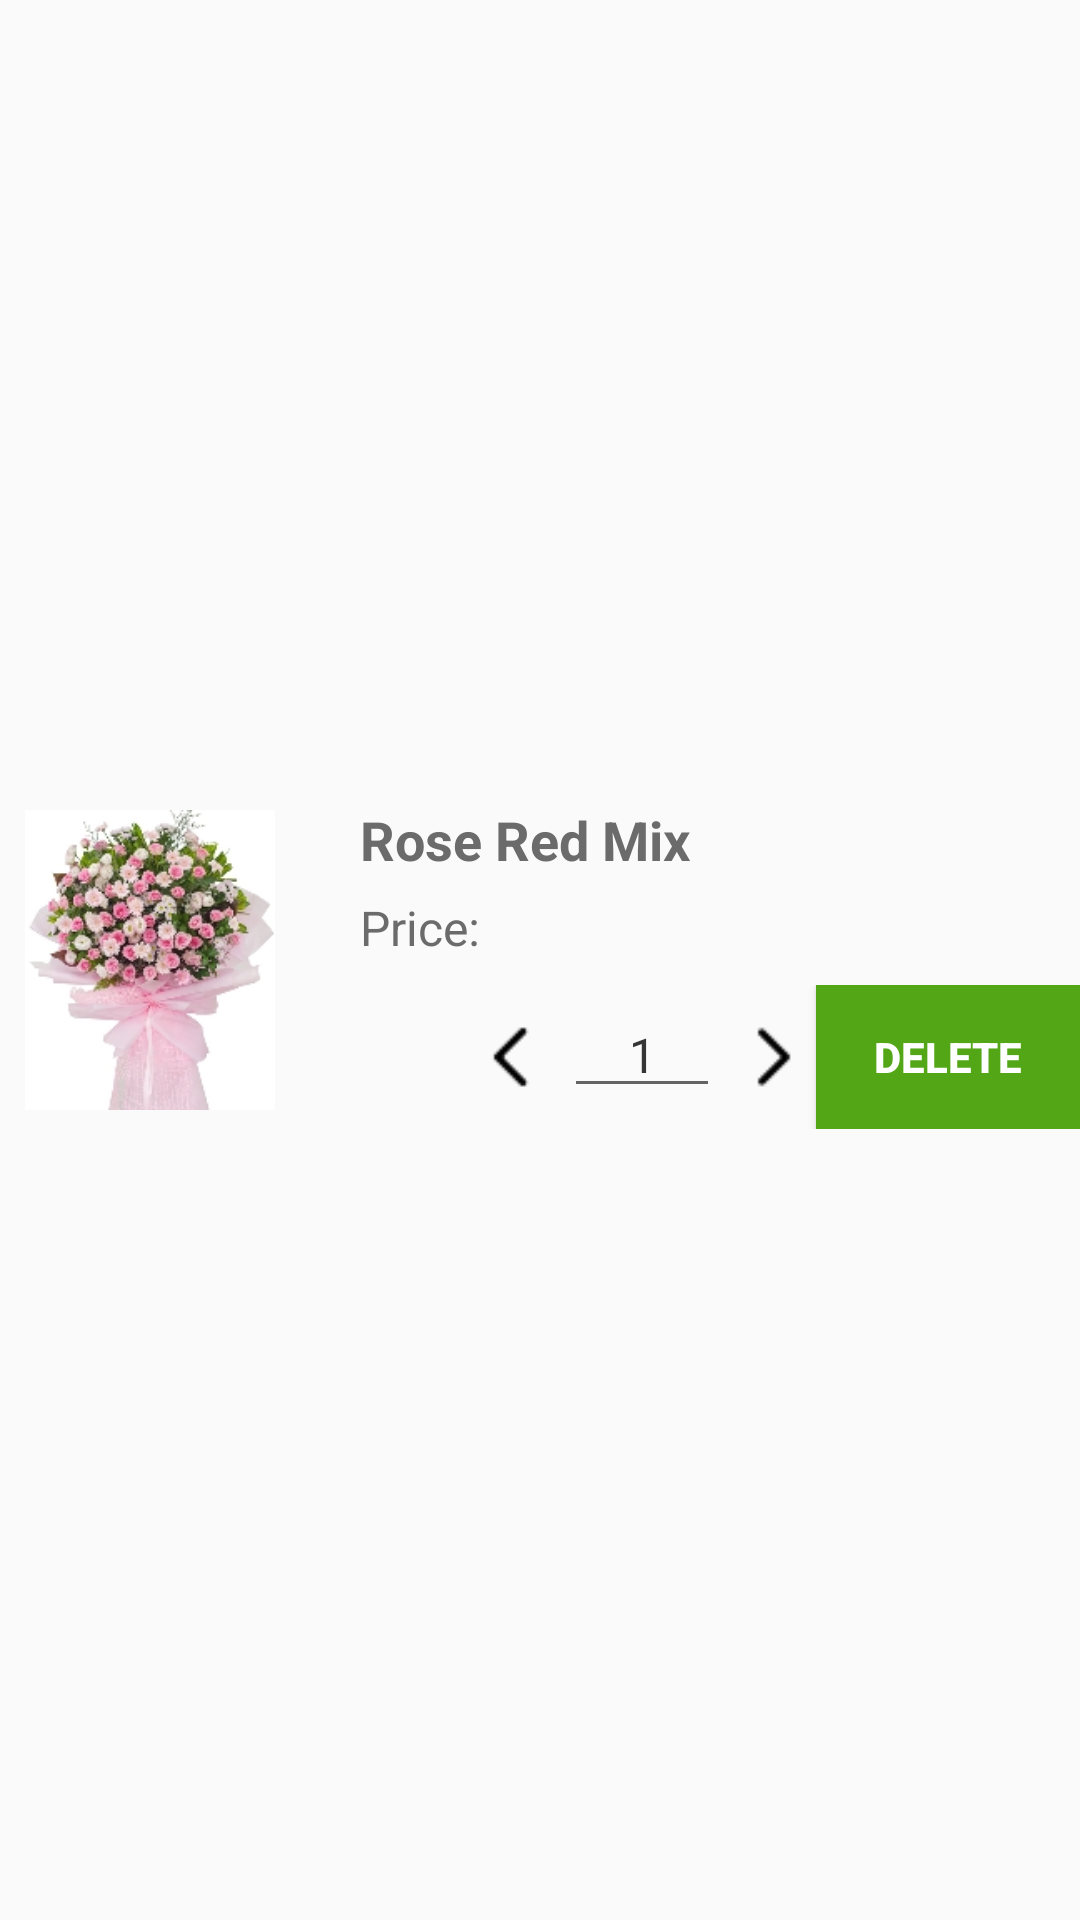

Named icons in this screenshot (1080px x 1920px) and their centers, point (x, y):
backblackicon: point (510, 1057)
flowerimage: point (151, 960)
nexticon: point (774, 1057)
